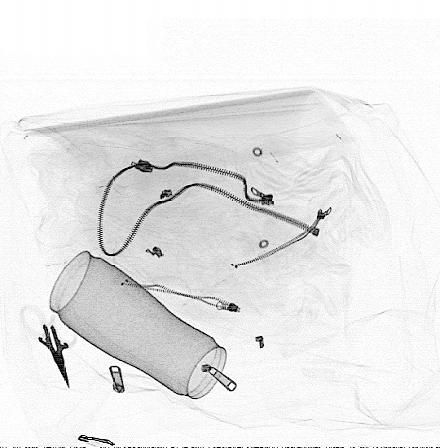Scissors: (17, 299, 83, 392)
